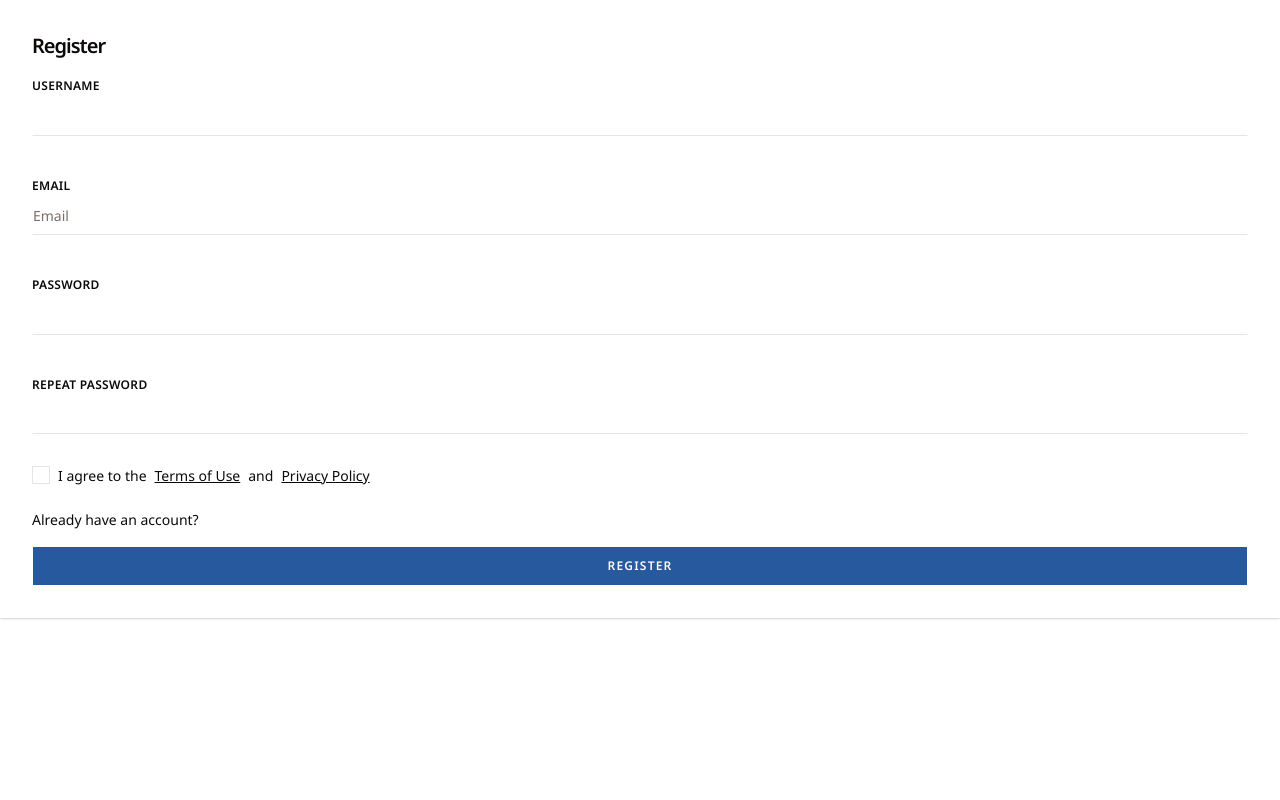
it: RegisterForm › flags passwords that do not match
This screenshot has width=1280, height=800.
In the 1st field: (640, 116) top-left (32, 96), bottom-right (1248, 136), type "Ada"
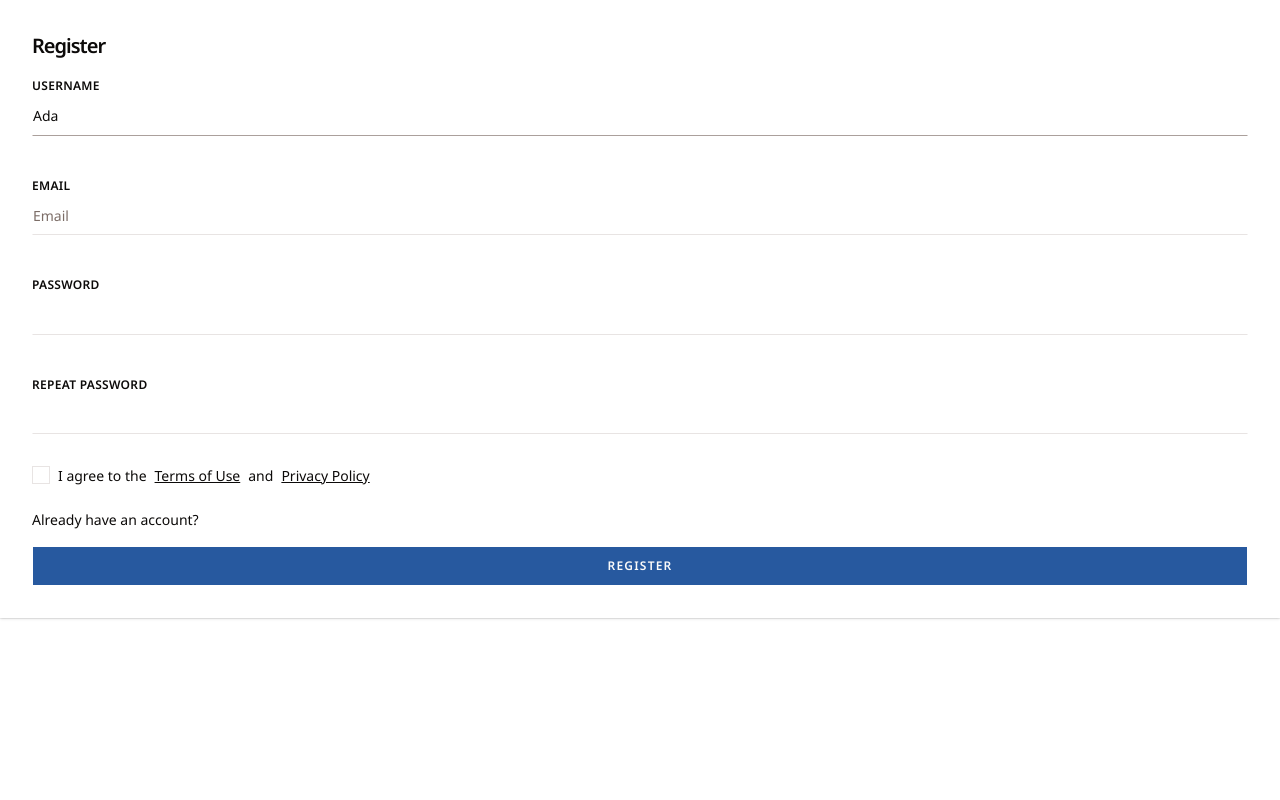
In the field with placeholder "Email": (640, 215) top-left (32, 195), bottom-right (1248, 235), type "ada@example.com"
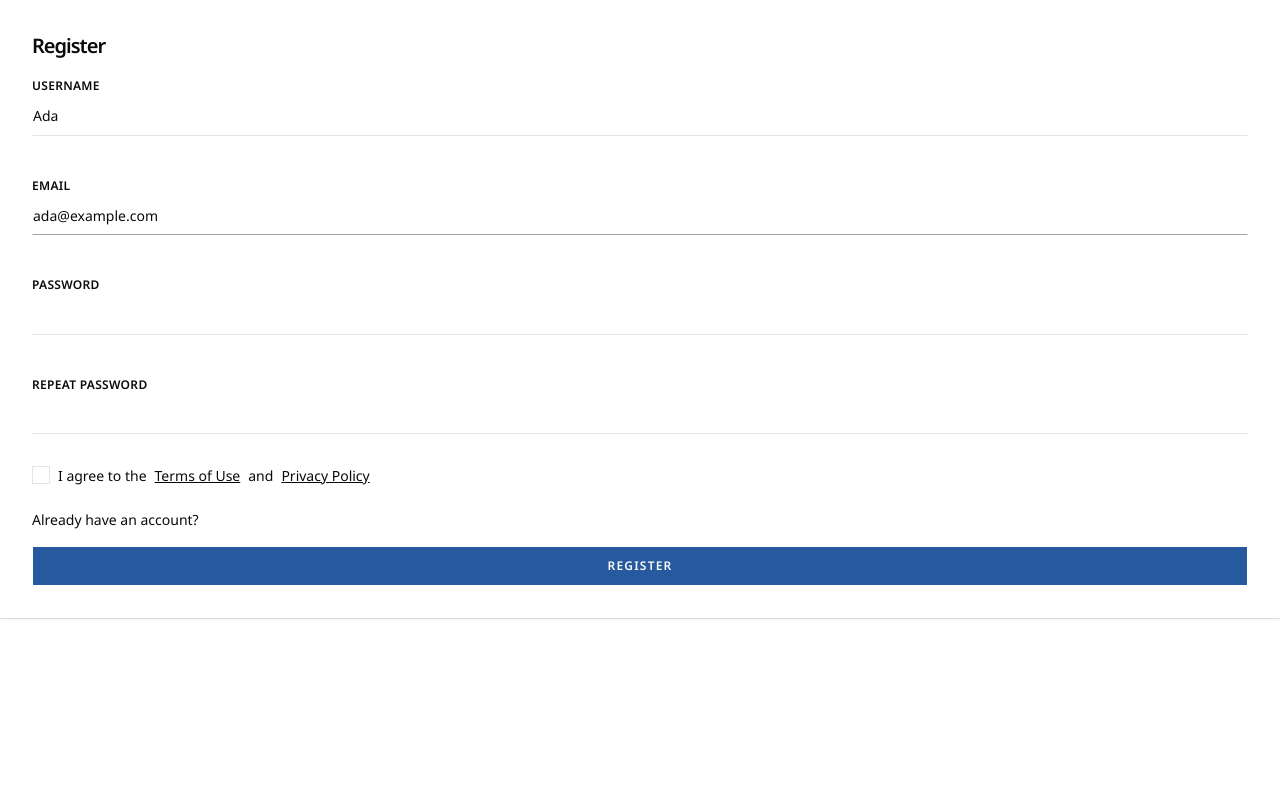
In the 1st password field: (640, 314) top-left (32, 294), bottom-right (1248, 334), type "Passw0rdTest"
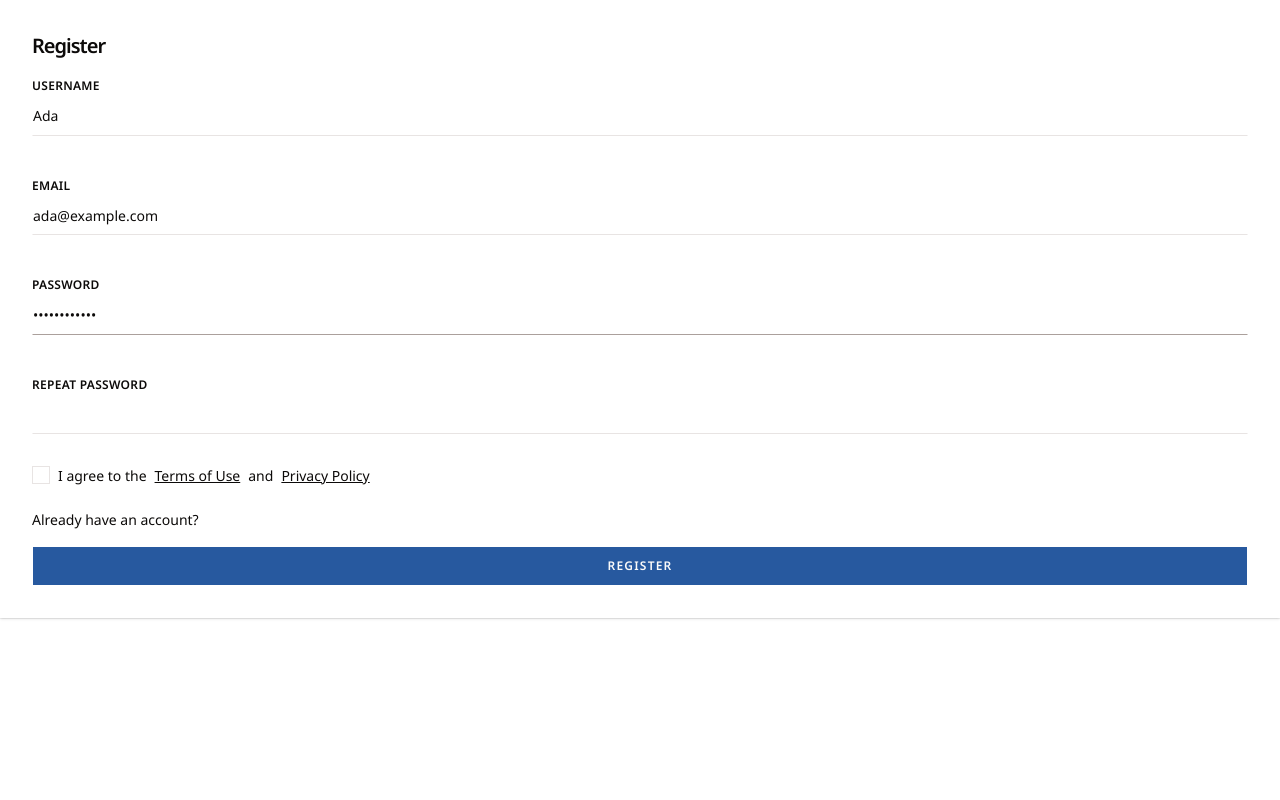
In the password field below "Repeat Password": (640, 414) top-left (32, 394), bottom-right (1248, 434), type "Different1"
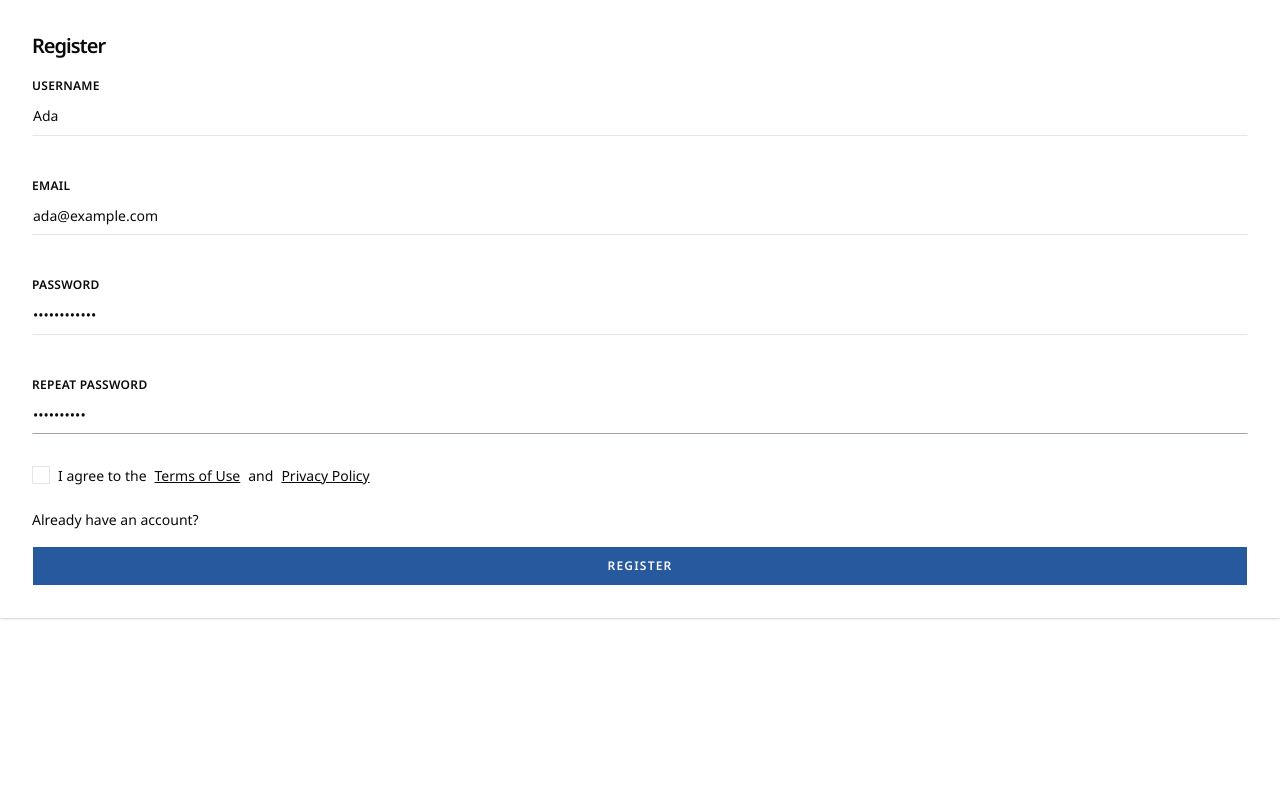
Click the 1st checkbox: (41, 475) top-left (32, 466), bottom-right (50, 484)
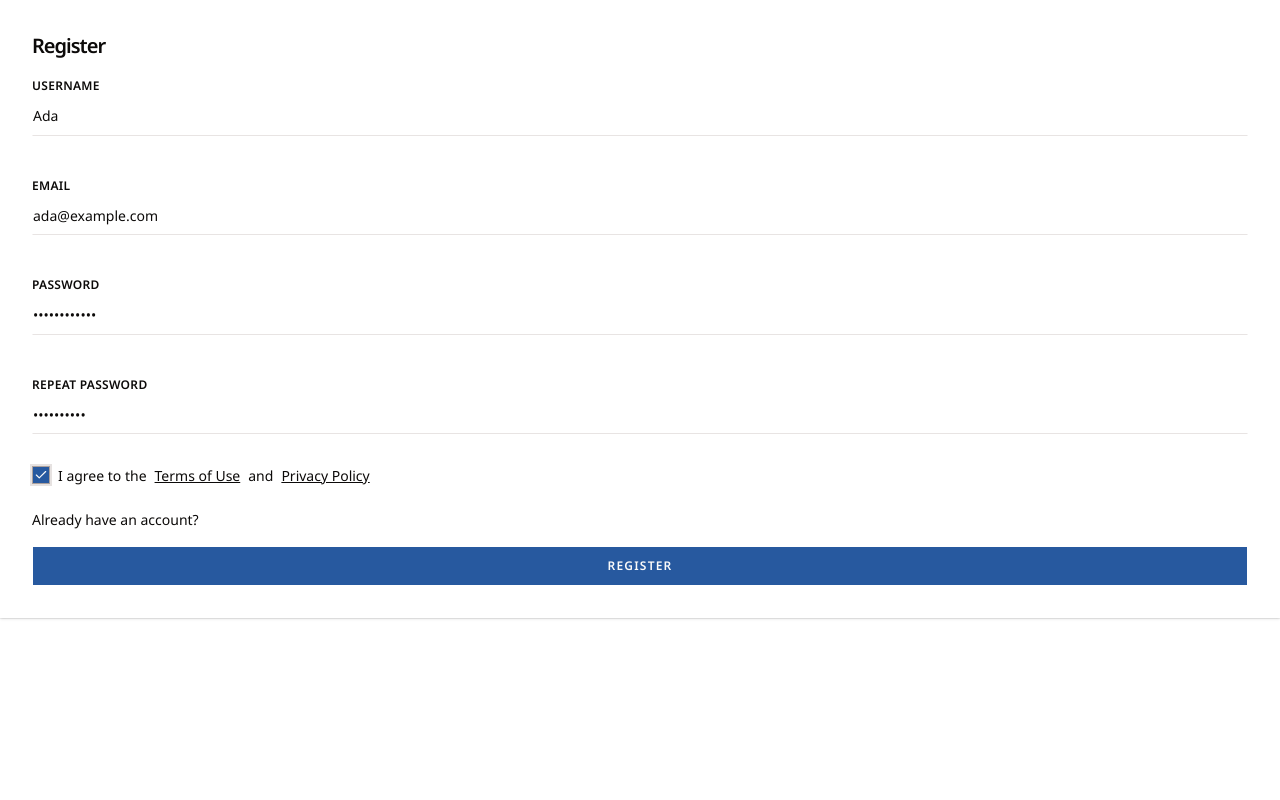
Click the button "Register": (640, 566) top-left (32, 546), bottom-right (1248, 586)
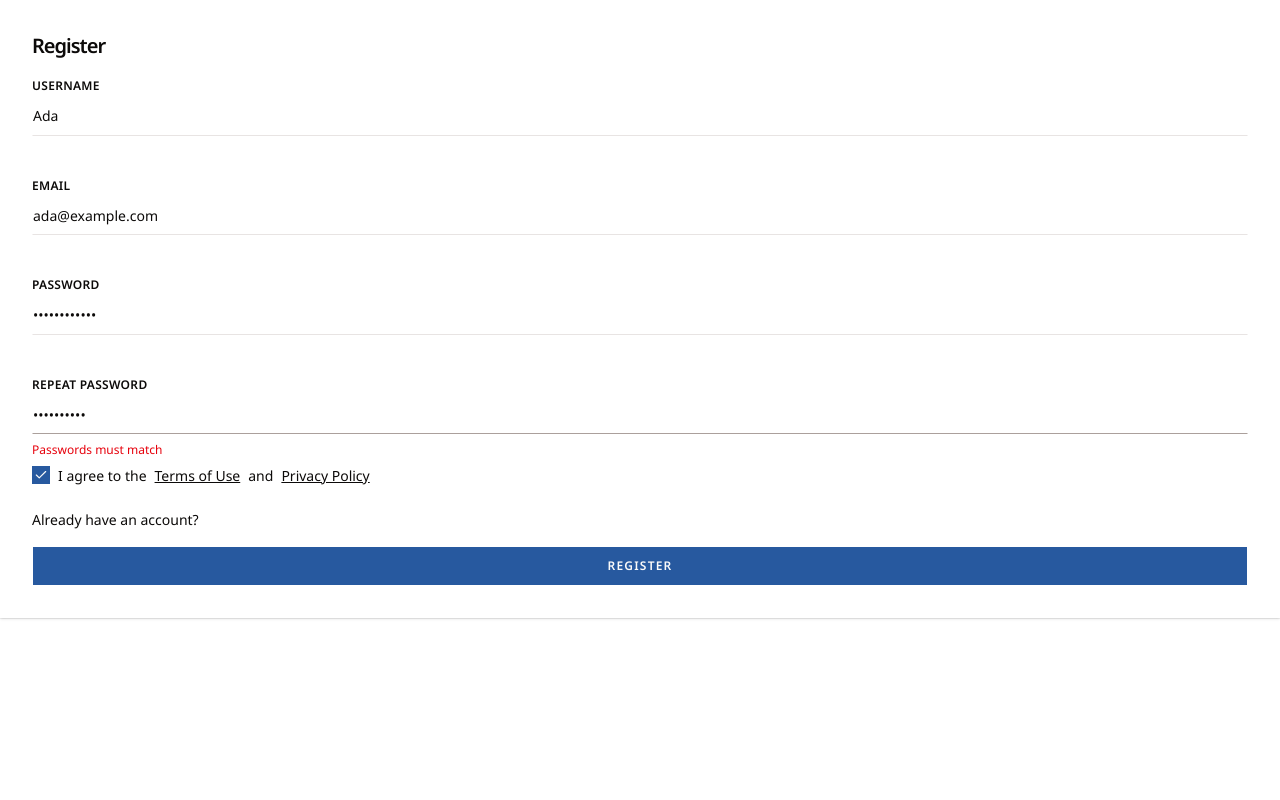
Now the text "Passwords must match" is shown, box top-left (32, 441), bottom-right (162, 458)
